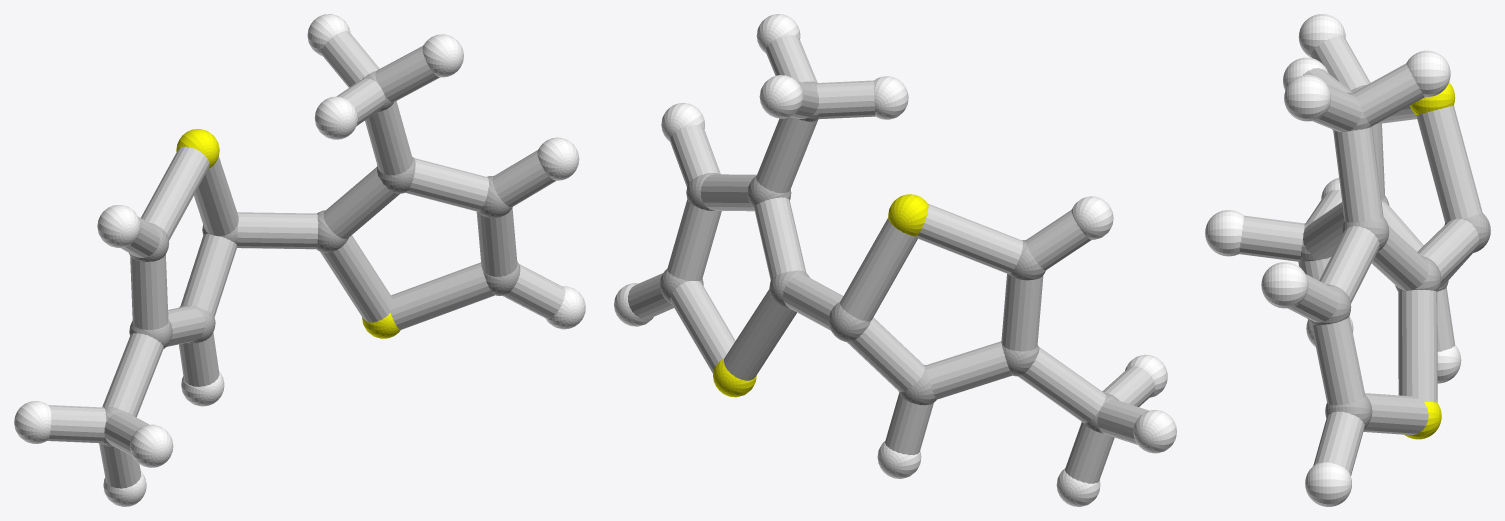
The model's file is Methylthiophene_Phi_60_Theta_20_Methylthiophene.glb.
3 renders of one model, left to right at view 1: azimuth 30°, elevation 25°; view 2: azimuth 150°, elevation 25°; view 3: azimuth 270°, elevation 25°, orthographic. The views are drawn at different scales.
Parts seen in each view (by area): view 1: grp7965, grp3621, grp1, grp7241; view 2: grp7965, grp3621, grp1, grp7241; view 3: grp7965, grp3621, grp1, grp7241.
Boxes of the visible parts, box(x1,y1,x2,y2) form: grp7965: box(47, 31, 565, 488); grp3621: box(14, 14, 585, 506); grp1: box(102, 71, 520, 446); grp7241: box(176, 129, 400, 338); grp7965: box(628, 34, 1155, 483); grp3621: box(614, 14, 1176, 506); grp1: box(660, 81, 1119, 433); grp7241: box(713, 194, 928, 397); grp7965: box(1239, 36, 1482, 475); grp3621: box(1205, 14, 1461, 506); grp1: box(1300, 85, 1490, 428); grp7241: box(1404, 82, 1455, 439).
Bounding box in the file's own units: 8.93 × 6.13 × 3.65.
